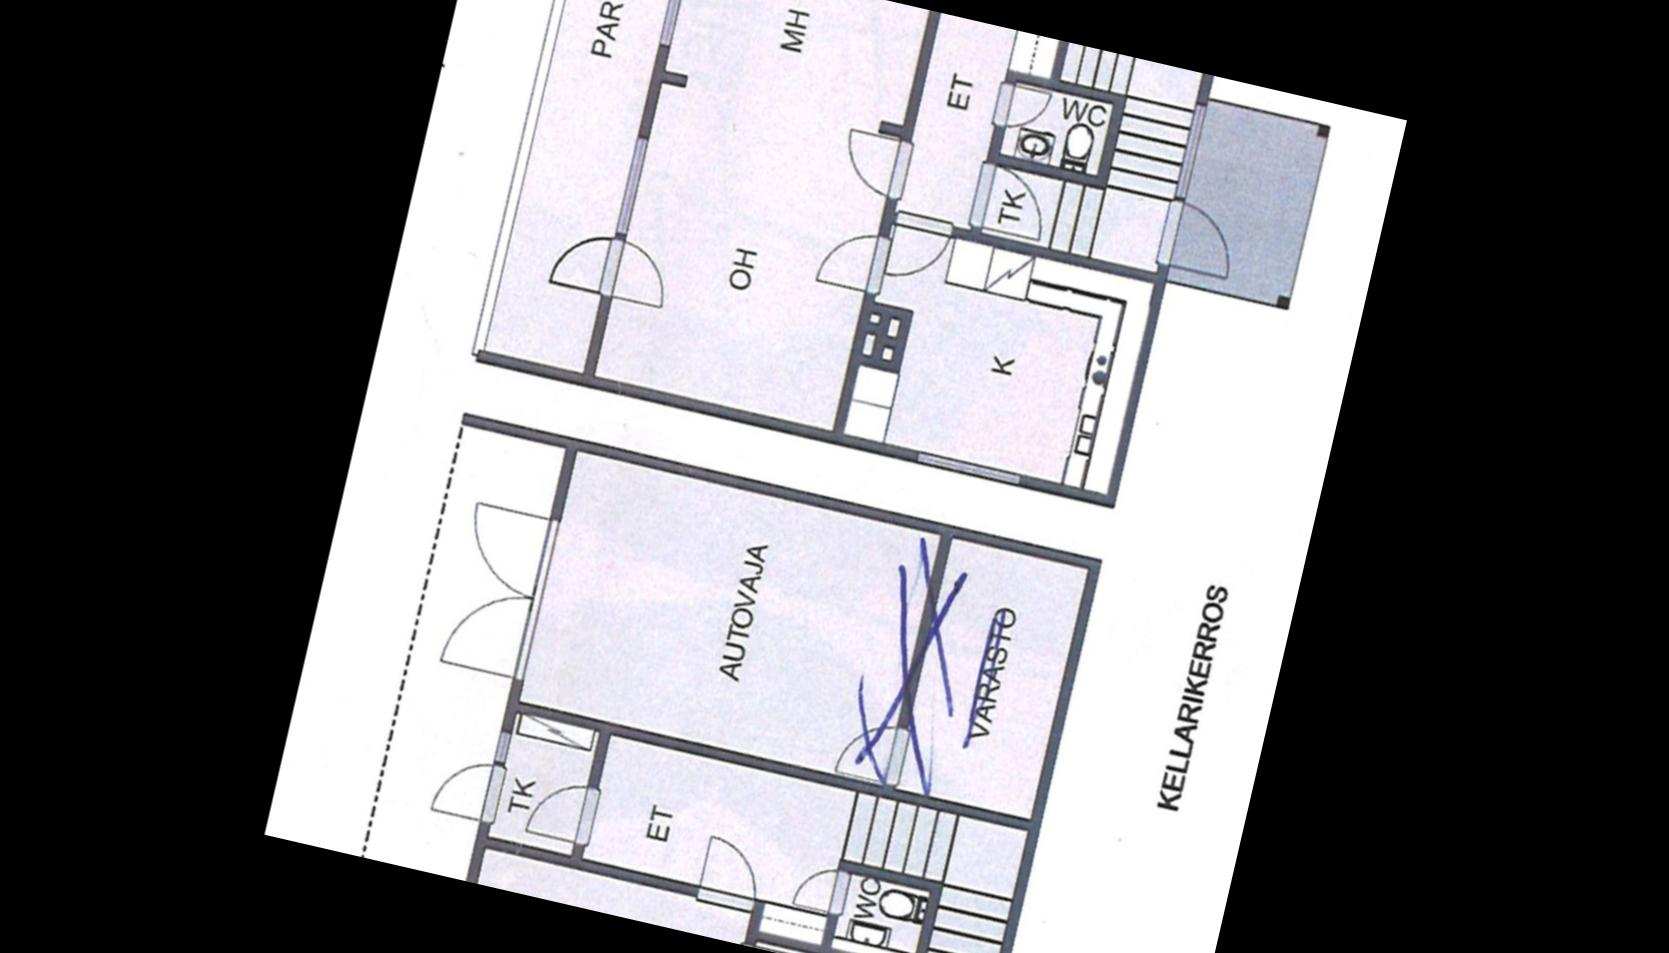door: (431, 577, 555, 687), (450, 493, 566, 604), (1147, 193, 1244, 282), (962, 156, 1058, 241), (826, 704, 916, 794), (423, 743, 514, 831), (875, 201, 961, 292), (689, 828, 773, 920), (540, 214, 625, 303), (810, 212, 893, 300), (831, 118, 914, 205), (519, 770, 602, 851), (601, 234, 679, 311), (784, 852, 859, 922), (984, 72, 1053, 136)
window: (600, 127, 661, 243), (907, 442, 1031, 495), (1162, 96, 1205, 202), (644, 0, 700, 58), (485, 724, 517, 768)
